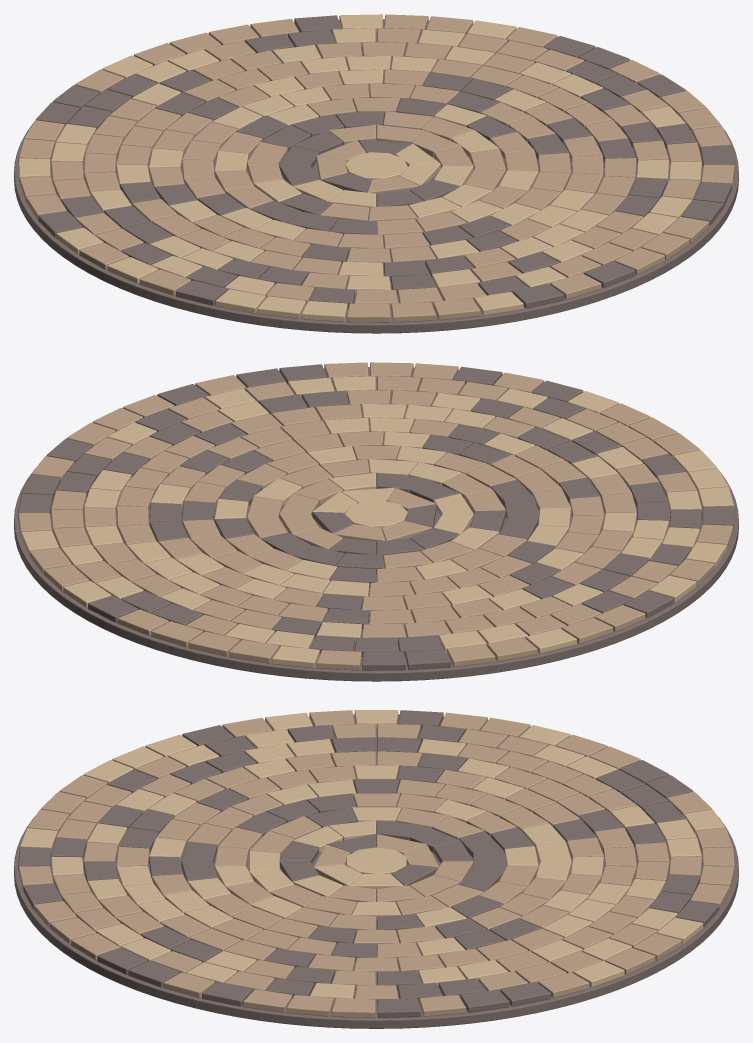
The model's file is ashwick-circular-plaza-paving.meshopt.glb.
3 renders of one model, top to bottom at view 1: azimuth 30°, elevation 25°; view 2: azimuth 150°, elevation 25°; view 3: azimuth 270°, elevation 25°, orthographic.
Parts seen in each view (by area): view 1: Radial cobbles.004, Radial cobbles.005, Radial cobbles.003, Sand bed.001, Centre paver.001; view 2: Radial cobbles.004, Radial cobbles.005, Radial cobbles.003, Sand bed.001, Centre paver.001; view 3: Radial cobbles.004, Radial cobbles.003, Radial cobbles.005, Sand bed.001, Centre paver.001.
Part boxes in pixels (bbox=[...]): Radial cobbles.004: bbox=[19, 14, 734, 322]; Radial cobbles.005: bbox=[18, 14, 701, 321]; Radial cobbles.003: bbox=[36, 15, 734, 308]; Sand bed.001: bbox=[14, 19, 738, 333]; Centre paver.001: bbox=[345, 152, 407, 180]; Radial cobbles.004: bbox=[18, 362, 733, 670]; Radial cobbles.005: bbox=[21, 376, 733, 668]; Radial cobbles.003: bbox=[18, 364, 734, 670]; Sand bed.001: bbox=[14, 367, 738, 681]; Centre paver.001: bbox=[345, 500, 407, 528]; Radial cobbles.004: bbox=[18, 710, 734, 1017]; Radial cobbles.003: bbox=[18, 710, 719, 1017]; Radial cobbles.005: bbox=[20, 710, 725, 1002]; Sand bed.001: bbox=[14, 714, 738, 1028]; Centre paver.001: bbox=[346, 847, 406, 873].
Bounding box in the file's own units: 8 × 0.1901 × 8.
